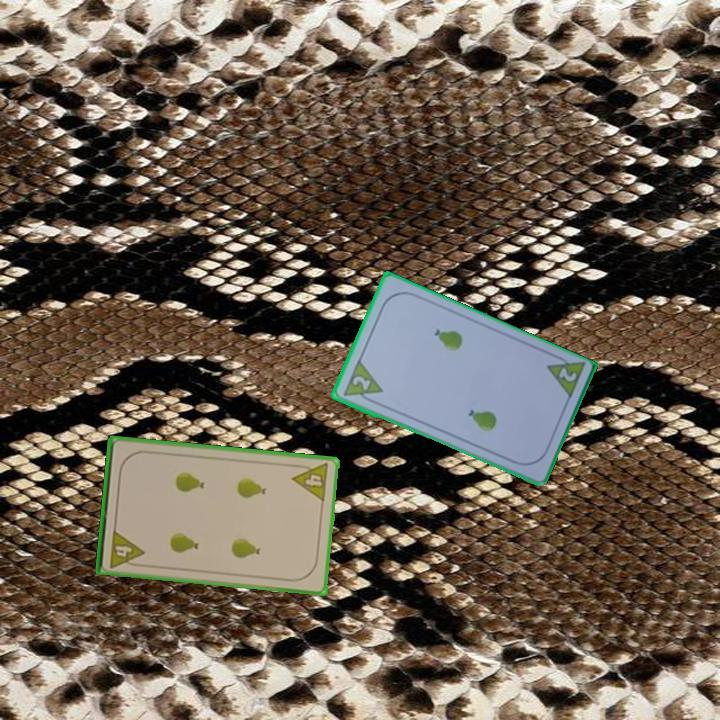2p: (339, 357, 385, 408), (555, 363, 580, 385)
4p: (289, 460, 332, 504), (106, 526, 147, 571)
